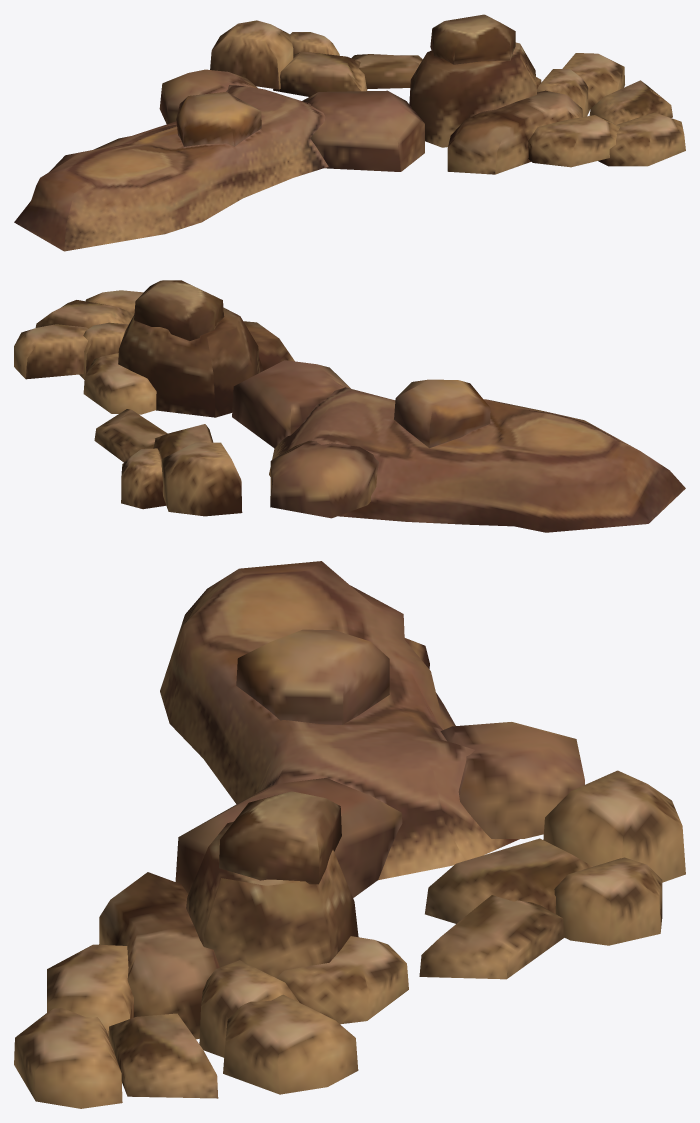
File: shitou16.FBX
3 renders of one model, top to bottom at view 1: azimuth 30°, elevation 25°; view 2: azimuth 150°, elevation 25°; view 3: azimuth 270°, elevation 25°, orthographic. The views are drawn at different scales.
Parts seen in each view (by area): view 1: shitou16; view 2: shitou16; view 3: shitou16.
Boxes of the visible parts, left/top/right/bottom form: shitou16: left=14, top=14, right=685, bottom=251; shitou16: left=14, top=280, right=685, bottom=532; shitou16: left=14, top=561, right=685, bottom=1108.
Bounding box in the file's own units: 149 × 25.09 × 85.44.
